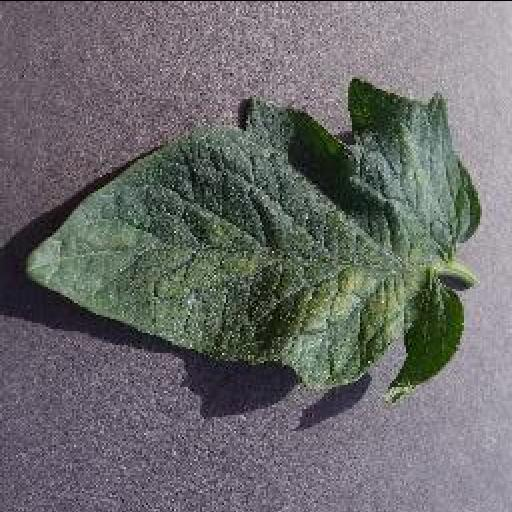disease_tomato: (20, 74, 480, 400)
